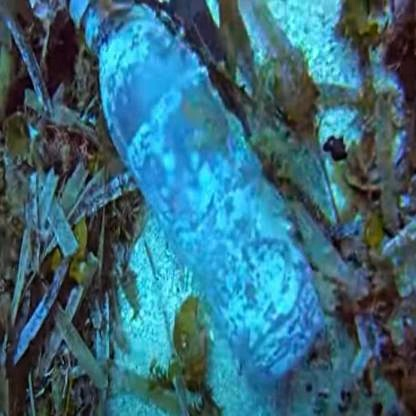pbottle: (98, 28, 316, 378)
